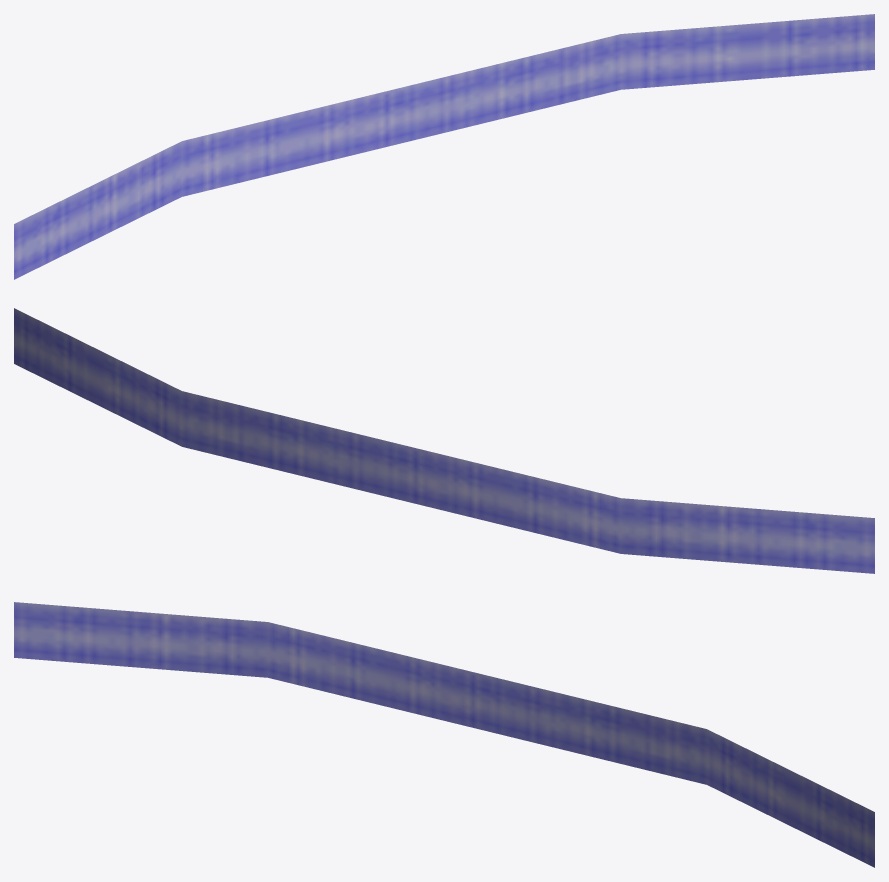
The model's file is yt1300_booster_s02_on_l2.fbx.
The picture shows the model from 3 angles, top to bottom: view 1: azimuth 30°, elevation 25°; view 2: azimuth 150°, elevation 25°; view 3: azimuth 330°, elevation 25°; orthographic projection.
Visible parts, largest first — view 1: mesh_node; view 2: mesh_node; view 3: mesh_node.
Part boxes in pixels (left/top/right/bottom): mesh_node: left=14, top=14, right=874, bottom=279; mesh_node: left=14, top=308, right=874, bottom=573; mesh_node: left=14, top=602, right=874, bottom=867.
Bounding box in the file's own units: 7.97 × 0.4934 × 0.6897.
1 material, 1 textured.
